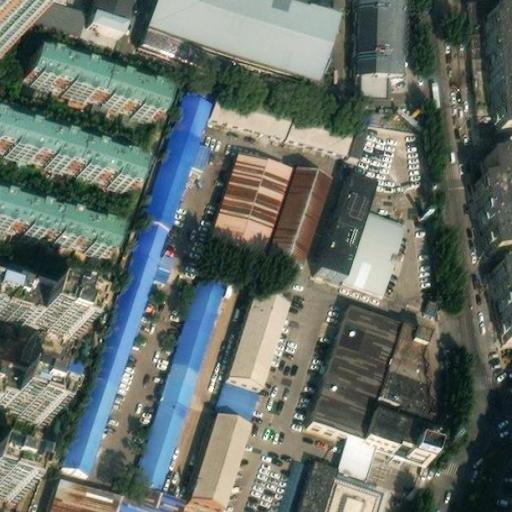building: (59, 207, 174, 466), (137, 264, 228, 479), (151, 0, 342, 73), (314, 299, 402, 430), (211, 77, 358, 154), (0, 108, 149, 182), (21, 47, 159, 118), (144, 83, 216, 218), (0, 185, 131, 256), (211, 142, 293, 248), (313, 165, 379, 272), (265, 158, 334, 260), (377, 310, 438, 416), (224, 282, 283, 382), (47, 470, 185, 512), (343, 205, 408, 292), (193, 402, 251, 499), (367, 396, 450, 449), (320, 466, 387, 512), (486, 0, 512, 115), (295, 449, 338, 512), (478, 166, 512, 235), (31, 292, 80, 334), (336, 425, 379, 472), (7, 383, 57, 422), (217, 373, 259, 411), (144, 20, 186, 52), (494, 251, 512, 325), (0, 460, 28, 493), (483, 137, 512, 168), (358, 66, 387, 88), (0, 377, 16, 407)
